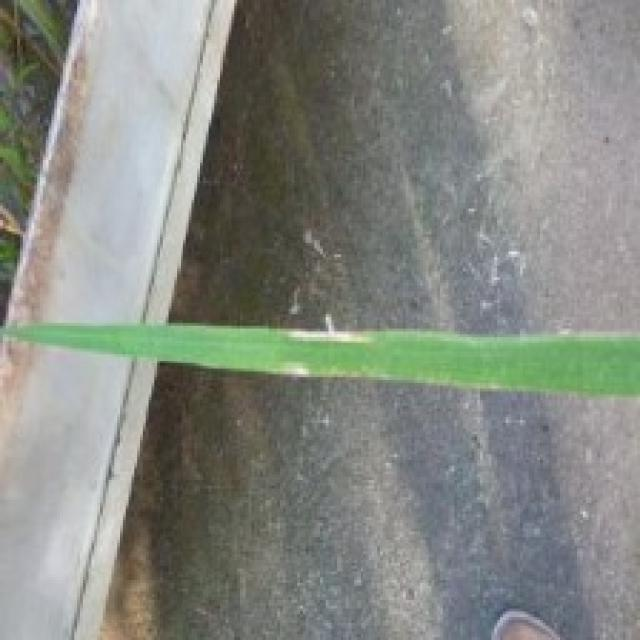Rice___Bacterial_Leaf_Blight: (0, 324, 637, 404)
